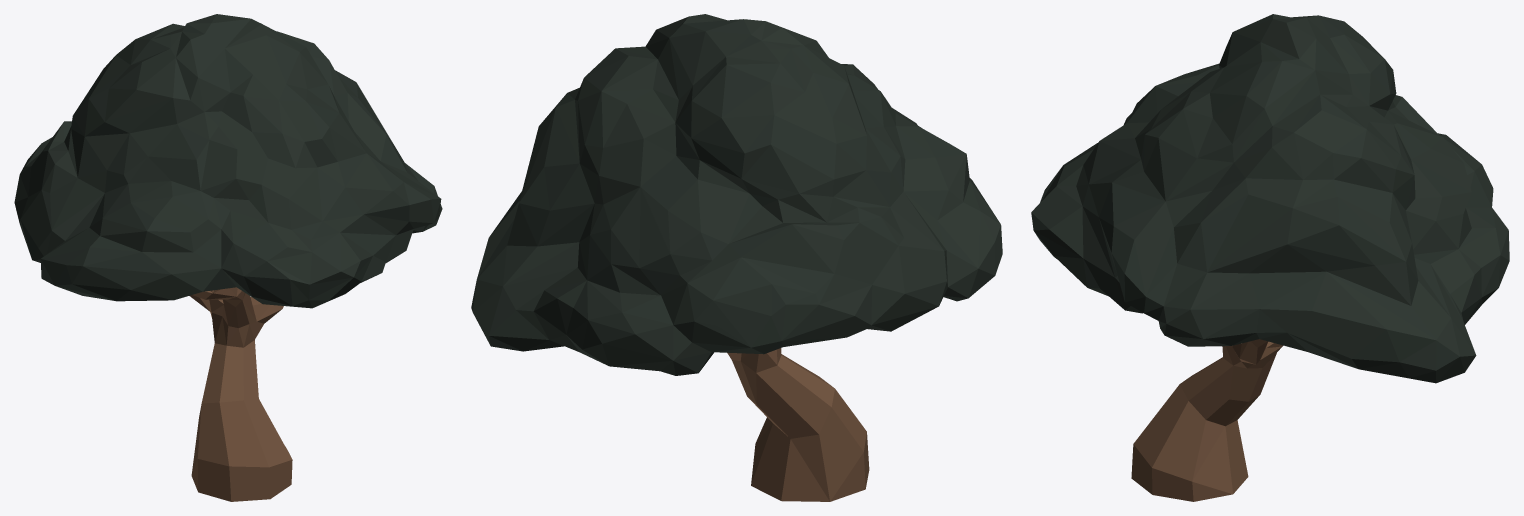
File: Wide_Green_Tree.fbx
3 views of the same model, side by side, from view 1: azimuth 30°, elevation 25°; view 2: azimuth 150°, elevation 25°; view 3: azimuth 270°, elevation 25° (orthographic). The views are drawn at different scales.
Visible parts, largest first — view 1: Wide Green Tree; view 2: Wide Green Tree; view 3: Wide Green Tree.
Part boxes in pixels (box(x1,y1,x2,y2)): Wide Green Tree: box(14, 14, 442, 501); Wide Green Tree: box(471, 14, 1002, 501); Wide Green Tree: box(1031, 14, 1509, 501).
Bounding box in the file's own units: 378 × 411 × 386.
